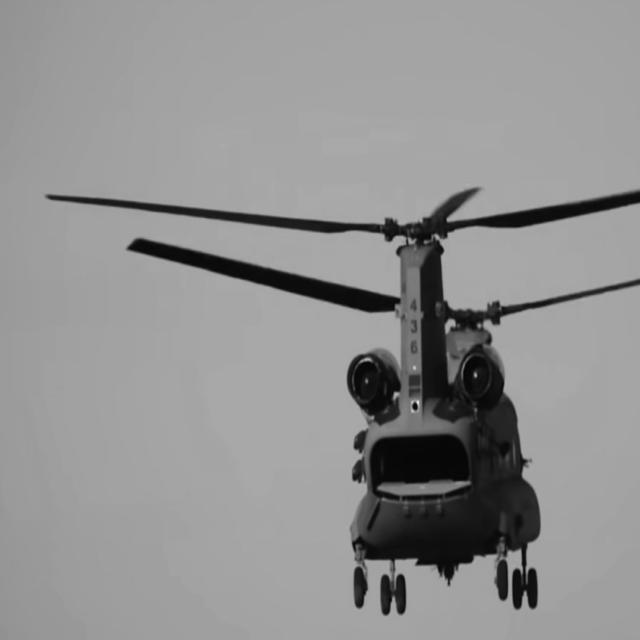Helicopter: (48, 188, 640, 613)
